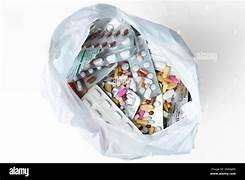pill_Strip: (68, 28, 162, 98), (67, 22, 134, 79), (81, 85, 140, 133), (82, 22, 135, 69), (99, 61, 140, 118), (156, 63, 189, 127), (128, 37, 160, 97), (68, 63, 116, 96), (155, 62, 179, 127), (68, 64, 116, 96), (82, 18, 133, 48), (86, 39, 135, 68), (156, 63, 190, 100), (81, 24, 132, 48), (134, 94, 163, 134), (155, 62, 172, 127), (156, 71, 175, 127), (83, 93, 117, 124), (67, 49, 100, 80), (68, 48, 100, 78), (77, 63, 116, 87), (167, 84, 188, 126), (100, 38, 135, 63), (81, 18, 109, 48), (163, 96, 188, 127), (102, 43, 135, 63), (152, 54, 179, 78), (76, 48, 101, 73), (82, 88, 103, 117), (120, 88, 140, 118), (88, 18, 121, 35), (174, 83, 189, 120), (154, 62, 180, 83), (67, 51, 84, 81), (156, 70, 177, 93), (75, 50, 95, 74), (125, 89, 140, 118), (66, 52, 81, 80), (165, 103, 183, 126), (151, 94, 163, 128), (147, 103, 162, 128), (68, 79, 87, 97), (151, 97, 162, 128), (98, 72, 115, 92), (68, 80, 87, 97), (165, 107, 182, 126), (90, 18, 110, 33), (156, 63, 171, 81), (174, 83, 188, 102), (175, 87, 189, 105), (132, 27, 142, 51), (163, 107, 175, 127), (152, 54, 166, 71), (173, 94, 187, 111), (106, 18, 123, 31), (163, 100, 174, 120), (105, 18, 121, 31), (123, 122, 140, 134), (83, 74, 98, 87), (163, 100, 173, 118), (162, 82, 176, 93), (73, 61, 81, 76), (162, 89, 174, 99), (163, 111, 170, 128), (135, 119, 148, 128), (120, 50, 131, 60), (129, 78, 136, 91), (131, 26, 140, 35), (169, 75, 179, 83), (93, 58, 102, 66), (160, 83, 168, 92), (148, 127, 157, 135), (83, 98, 92, 106), (76, 80, 83, 90), (163, 109, 170, 119), (114, 111, 122, 119), (140, 125, 148, 133), (163, 110, 170, 119), (121, 63, 128, 71), (163, 117, 168, 128), (94, 109, 101, 116), (104, 100, 111, 107), (187, 91, 191, 101), (157, 123, 162, 127)
